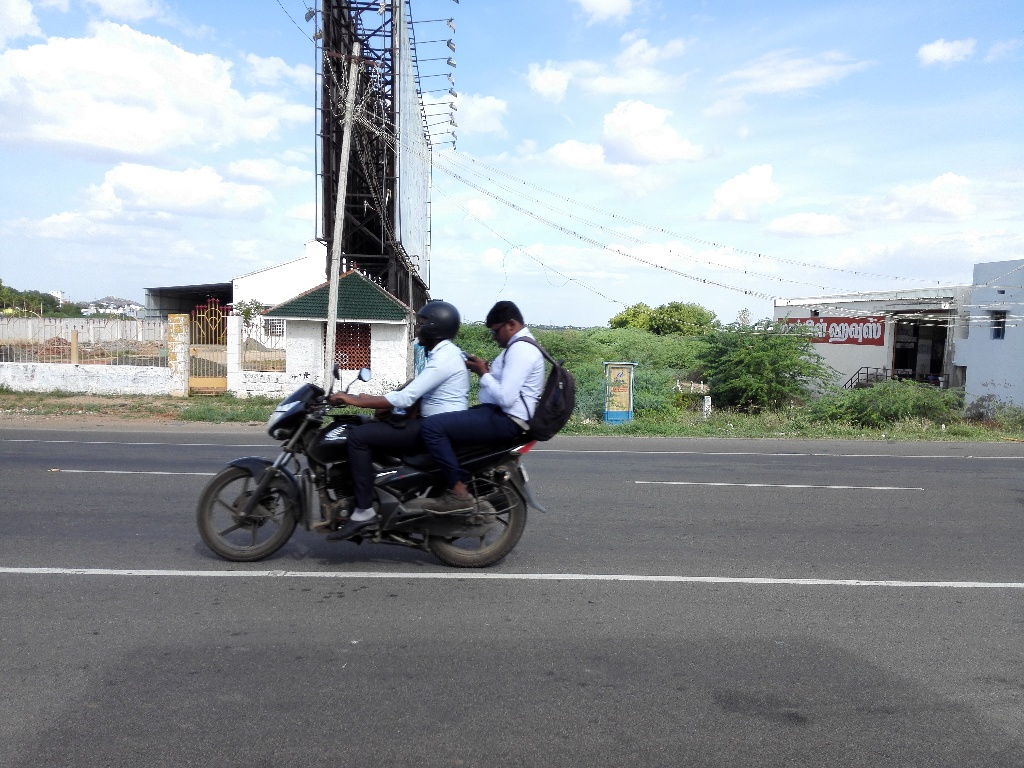biker: (178, 257, 605, 576)
helmet: (406, 289, 466, 359)
nohelmet: (478, 288, 538, 358)
